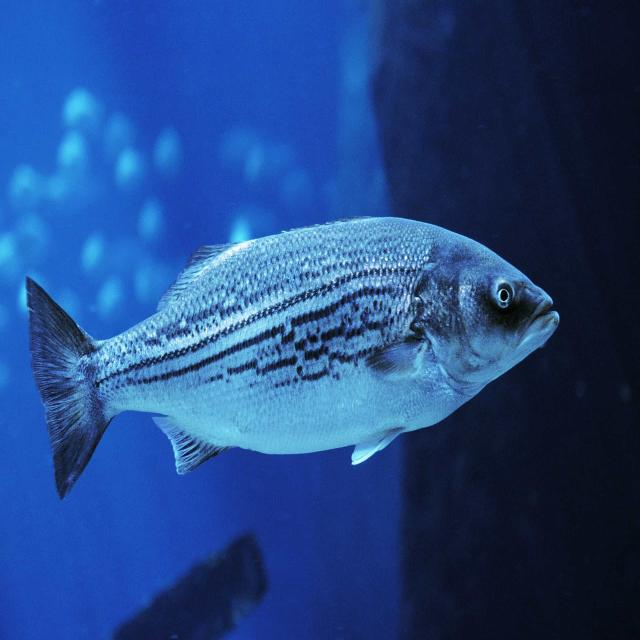Bass - Striped: (27, 218, 559, 497)
